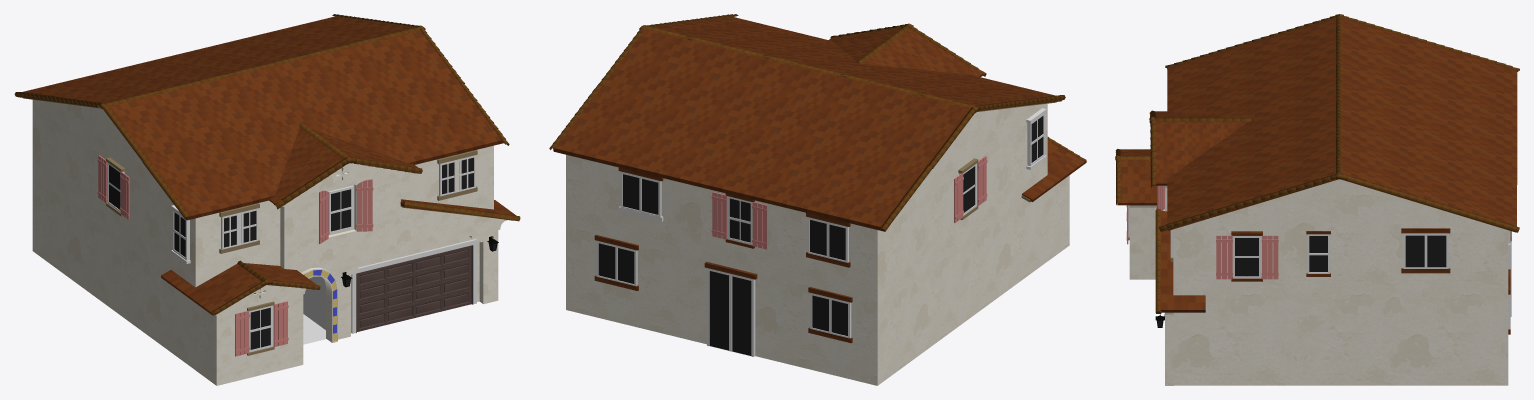
The model's file is KBhomes_2345_elevation_spanish.glb.
3 renders of one model, left to right at view 1: azimuth 30°, elevation 25°; view 2: azimuth 150°, elevation 25°; view 3: azimuth 270°, elevation 25°, orthographic. The views are drawn at different scales.
Parts seen in each view (by area): view 1: Cube.028, Cube, Plane.002, !Garage 16 panel STD003.002, Cube.025, Cube.024, $$_S_GABLE_JOINT_002.003, $$_S-TILE_CAP_013.003, Circle.001, Cube.017, Cube.003, Cube.016 (+14 smaller); view 2: Cube, Cube.028, Cube.058, Cube.024, $$_S_GABLE_JOINT_002.003, Cube.052, Cube.042, Cube.055, Cube.045, Cube.051, Cube.025, $$_S-TILE_CAP_013.003 (+7 smaller); view 3: Cube, Cube.028, Cube.023, $$_S_GABLE_JOINT_002.004, Cube.025, Cube.022, Cube.038, Cube.034, Cube.031, $$_S_GABLE_JOINT_002.003, Cube.035, $$_S-TILE_CAP_013.003 (+4 smaller).
Boxes of the visible parts, x1,y1,x2,y2 form: Cube.028: [21, 16, 503, 220]; Cube: [32, 99, 493, 385]; Plane.002: [280, 163, 507, 339]; !Garage 16 panel STD003.002: [356, 245, 473, 332]; Cube.025: [161, 263, 317, 315]; Cube.024: [269, 127, 343, 203]; $$_S_GABLE_JOINT_002.003: [14, 92, 189, 219]; $$_S-TILE_CAP_013.003: [104, 27, 420, 105]; Circle.001: [303, 276, 325, 344]; Cube.017: [319, 179, 373, 243]; Cube.003: [351, 239, 476, 333]; Cube.016: [235, 301, 288, 356]; Cube: [566, 103, 1069, 385]; Cube.028: [553, 16, 1061, 231]; Cube.058: [707, 268, 755, 356]; Cube.024: [860, 29, 982, 77]; $$_S_GABLE_JOINT_002.003: [880, 95, 1065, 231]; Cube.052: [620, 171, 661, 217]; Cube.042: [596, 240, 637, 286]; Cube.055: [810, 293, 851, 338]; Cube.045: [808, 217, 848, 262]; Cube.051: [711, 192, 767, 249]; Cube.025: [1022, 140, 1086, 201]; $$_S-TILE_CAP_013.003: [645, 26, 975, 107]; Cube: [1129, 179, 1508, 385]; Cube.028: [1167, 17, 1517, 232]; Cube.023: [1152, 122, 1246, 185]; $$_S_GABLE_JOINT_002.004: [1159, 173, 1519, 232]; Cube.025: [1117, 149, 1156, 205]; Cube.022: [1159, 211, 1205, 312]; Cube.038: [1403, 233, 1448, 268]; Cube.034: [1216, 235, 1278, 279]; Cube.031: [1233, 236, 1261, 278]; $$_S_GABLE_JOINT_002.003: [1165, 14, 1519, 71]; Cube.035: [1307, 234, 1329, 273]; $$_S-TILE_CAP_013.003: [1336, 15, 1341, 173].
Bounding box in the file's own units: 13.85 × 8.43 × 14.27.
11 materials, 4 textured.
